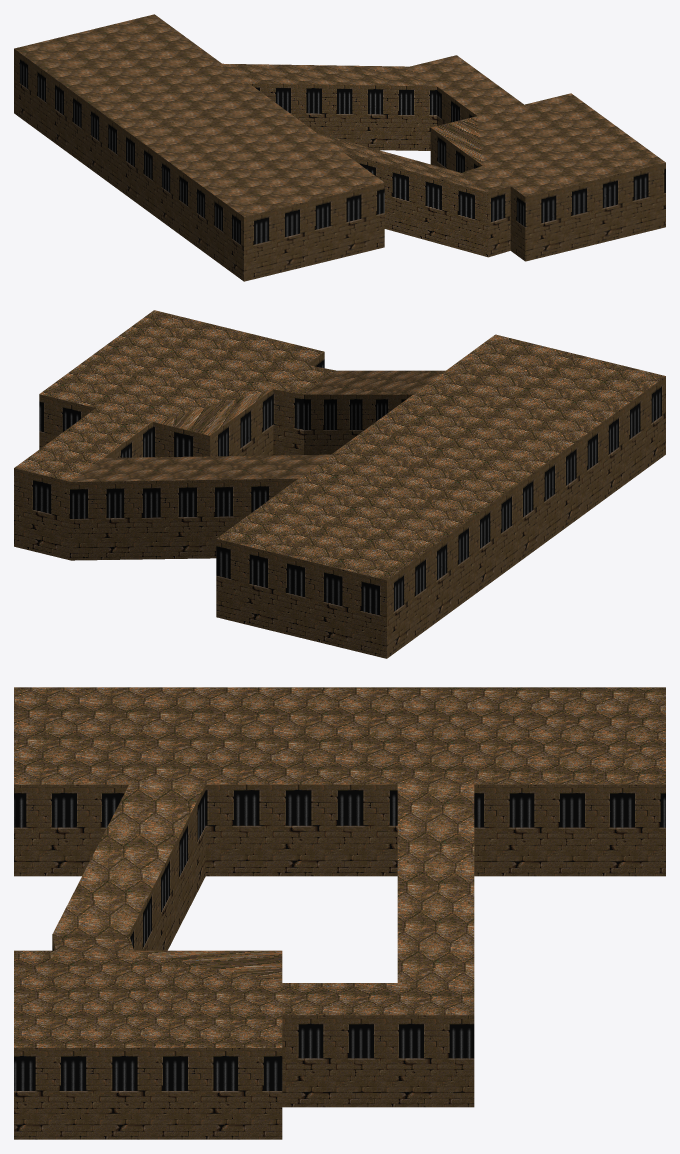
Rendered from TestRoom.glb.
3 renders of one model, top to bottom at view 1: azimuth 30°, elevation 25°; view 2: azimuth 150°, elevation 25°; view 3: azimuth 270°, elevation 25°, orthographic. The views are drawn at different scales.
Visible parts, largest first — view 1: Cube; view 2: Cube; view 3: Cube.
Boxes of the visible parts, x1,y1,x2,y2 form: Cube: (14, 14, 665, 281); Cube: (14, 310, 665, 658); Cube: (14, 687, 665, 1139).
Bounding box in the file's own units: 18 × 4.62 × 17.
2 materials, 2 textured.
